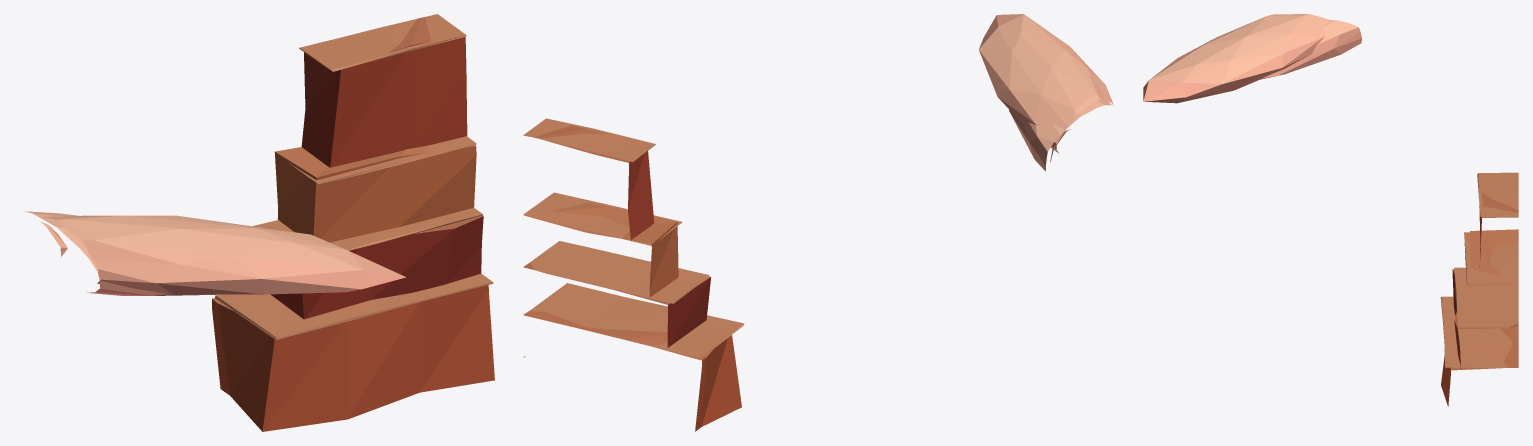
3 renders of one model, left to right at view 1: azimuth 30°, elevation 25°; view 2: azimuth 150°, elevation 25°; view 3: azimuth 270°, elevation 25°, orthographic. The views are drawn at different scales.
Parts seen in each view (by area): view 1: scene.2.6 (×2); view 2: scene.2.6 (×2); view 3: scene.2.6 (×2).
Boxes of the visible parts, <box> form: scene.2.6 (×2): <box>25,14,494,431</box>; scene.2.6 (×2): <box>523,14,1113,431</box>; scene.2.6 (×2): <box>1143,14,1518,406</box>.
Size of the model in its own units: 62.5 by 41.25 by 56.68.
